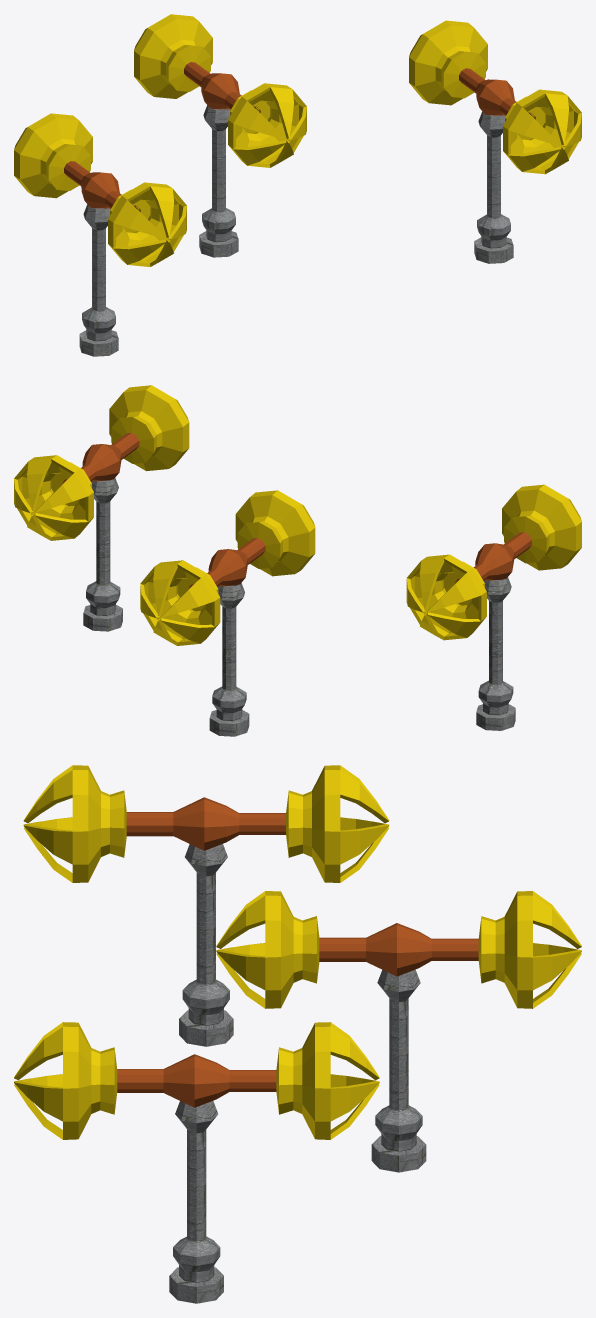
Rendered from Vajrayudh.fbx.
The picture shows the model from 3 angles, top to bottom: view 1: azimuth 30°, elevation 25°; view 2: azimuth 150°, elevation 25°; view 3: azimuth 270°, elevation 25°; orthographic projection. The views are drawn at different scales.
Visible parts, largest first — view 1: Circle.002, Circle.004, Circle.007, Circle.005, Circle.008, Circle.001, Pillar1.002, Pillar1.001, Pillar1.003, Circle.003, Circle.006, Circle; view 2: Circle.001, Circle.005, Circle.008, Circle.002, Circle.007, Circle.004, Pillar1.003, Pillar1.002, Pillar1.001, Circle.006, Circle.003, Circle; view 3: Circle.007, Circle.004, Circle.005, Circle.002, Circle.008, Circle.001, Pillar1.003, Pillar1.001, Pillar1.002, Circle, Circle.003, Circle.006.
Boxes of the visible parts, x1,y1,x2,y2 form: Circle.002: (228,83,306,167); Circle.004: (108,182,186,266); Circle.007: (503,89,581,174); Circle.005: (14,113,92,198); Circle.008: (409,20,487,105); Circle.001: (134,14,212,98); Pillar1.002: (474,111,513,263); Pillar1.001: (79,204,118,356); Pillar1.003: (199,105,238,257); Circle.003: (64,161,140,211); Circle.006: (459,68,535,119); Circle: (184,62,260,112); Circle.001: (140,560,220,645); Circle.005: (406,554,486,640); Circle.008: (14,455,93,540); Circle.002: (235,490,315,576); Circle.007: (109,385,189,471); Circle.004: (502,484,581,570); Pillar1.003: (209,583,249,736); Pillar1.002: (83,478,122,631); Pillar1.001: (476,577,515,730); Circle.006: (62,433,139,483); Circle.003: (455,532,531,583); Circle: (188,538,265,588); Circle.007: (14,1022,117,1139); Circle.004: (23,765,126,882); Circle.005: (286,765,389,882); Circle.002: (216,891,319,1008); Circle.008: (276,1022,379,1139); Circle.001: (478,891,581,1008); Pillar1.003: (371,969,426,1172); Pillar1.001: (179,844,233,1046); Pillar1.002: (169,1101,223,1303); Circle: (319,923,478,976); Circle.003: (126,797,285,850); Circle.006: (117,1054,276,1107).
Size of the model in its own units: 37.05 by 15.09 by 29.14.
